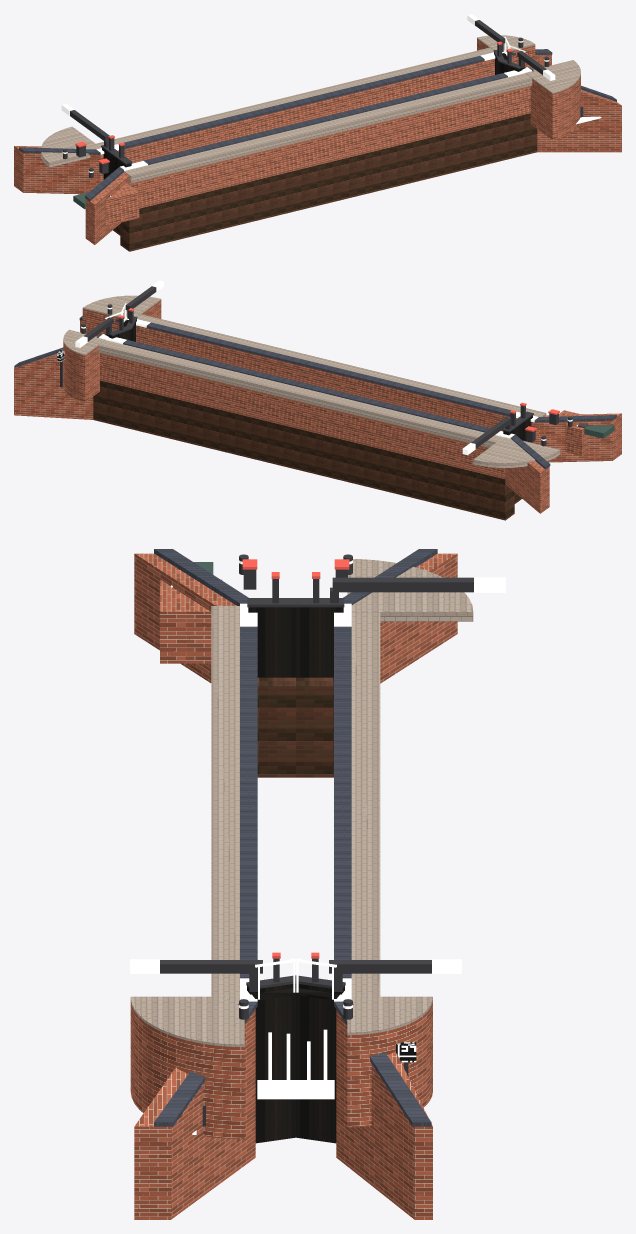
The model's file is lock-54.glb.
3 views of the same model, one above another, from view 1: azimuth 30°, elevation 25°; view 2: azimuth 150°, elevation 25°; view 3: azimuth 270°, elevation 25° (orthographic). The views are drawn at different scales.
Parts seen in each view (by area): view 1: Chamber, ChamberWet, Edge, Coping.001, TopGateCap, Coping, TopGate; view 2: Chamber, ChamberWet, Edge, Coping.001, TopGateCap, Coping, TopGate; view 3: Chamber, Edge, Coping.001, TopGate, TopGateCap, ChamberWet, Coping, Leak.
Boxes of the visible parts, box(x1,y1,x2,y2) form: Chamber: box(14, 39, 621, 244); ChamberWet: box(113, 113, 537, 251); Edge: box(41, 35, 580, 183); Coping.001: box(19, 49, 616, 200); TopGateCap: box(63, 20, 583, 178); Coping: box(61, 14, 555, 172); TopGate: box(102, 52, 525, 179); Chamber: box(14, 300, 621, 513); ChamberWet: box(93, 380, 521, 520); Edge: box(63, 295, 560, 467); Coping.001: box(14, 316, 616, 469); TopGateCap: box(60, 286, 572, 448); Coping: box(75, 280, 572, 455); TopGate: box(105, 319, 532, 442); Chamber: box(130, 553, 457, 1219); Edge: box(130, 559, 473, 1047); Coping.001: box(154, 549, 437, 1126); TopGate: box(247, 607, 344, 1143); TopGateCap: box(160, 554, 473, 1126); ChamberWet: box(257, 677, 333, 777); Coping: box(130, 560, 505, 1009); Leak: box(171, 585, 334, 1134).
Size of the model in its own units: 33.24 by 5.77 by 10.24.
11 materials, 8 textured.
